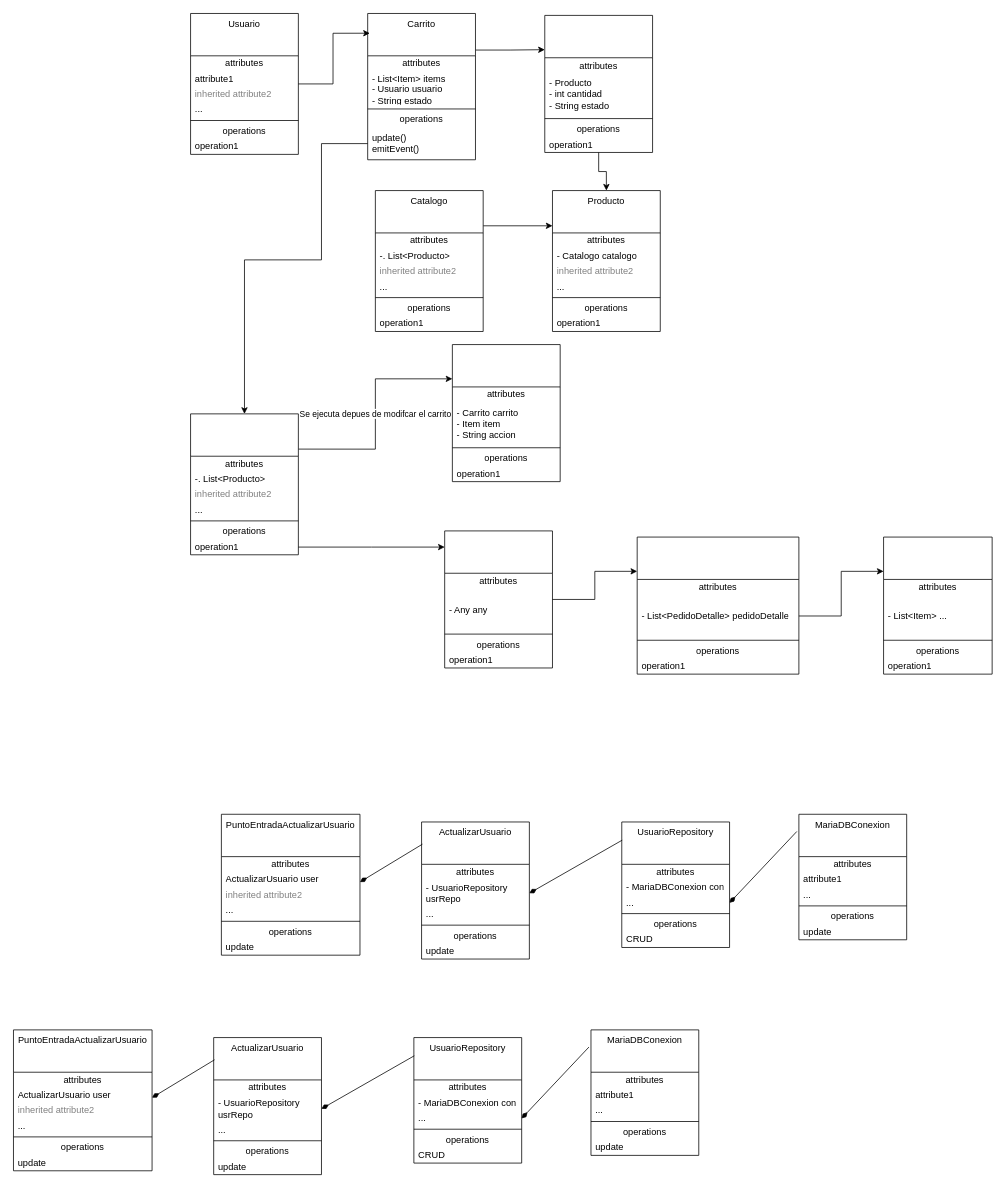
This 1006x1188 diagram has some shape labels left out. The shapes that lost their labels are listed below. From the top down, each one's box as (x1, y1, x2, y2) in pixels, then its label:
(544, 15, 653, 152): Item
(452, 344, 560, 482): CarritoLog
(190, 413, 298, 555): EventHandler
(444, 530, 552, 668): GenerarPedido
(636, 536, 799, 674): PedidoCabecera
(883, 536, 992, 674): PedidoDetalle
